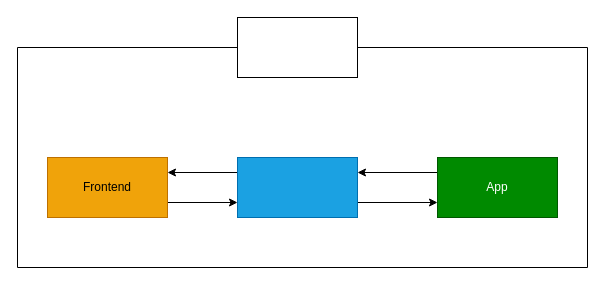
The diagram is 606 pixels wide and 286 high, and some of its shapes have lost their labels. Each missing label, with the centre of its shape:
"Backend Server" belongs at point 297,187.
"Multisnake" belongs at point 297,47.
